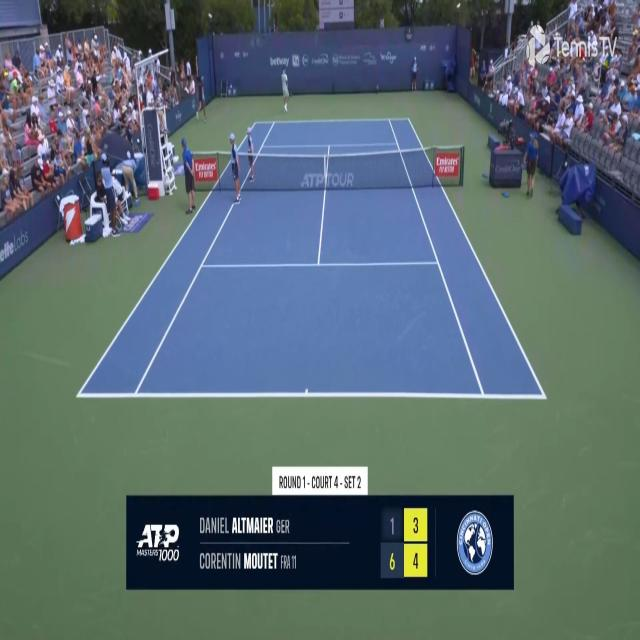tennis-player: (280, 66, 292, 114)
